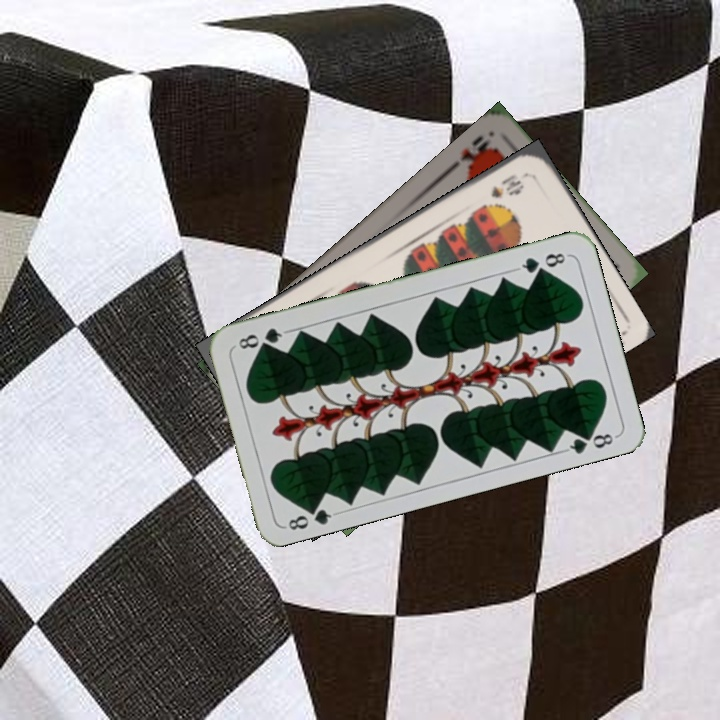G8: (282, 499, 340, 533), (513, 249, 571, 276)
HO: (445, 129, 499, 173)
S10: (487, 169, 530, 201)
